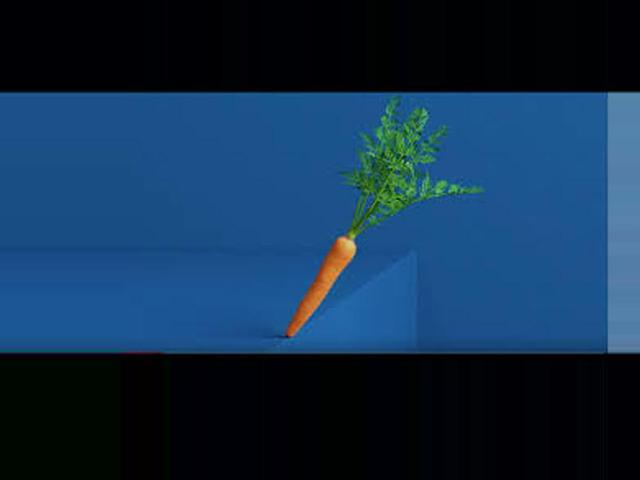carrot: (275, 226, 383, 349)
